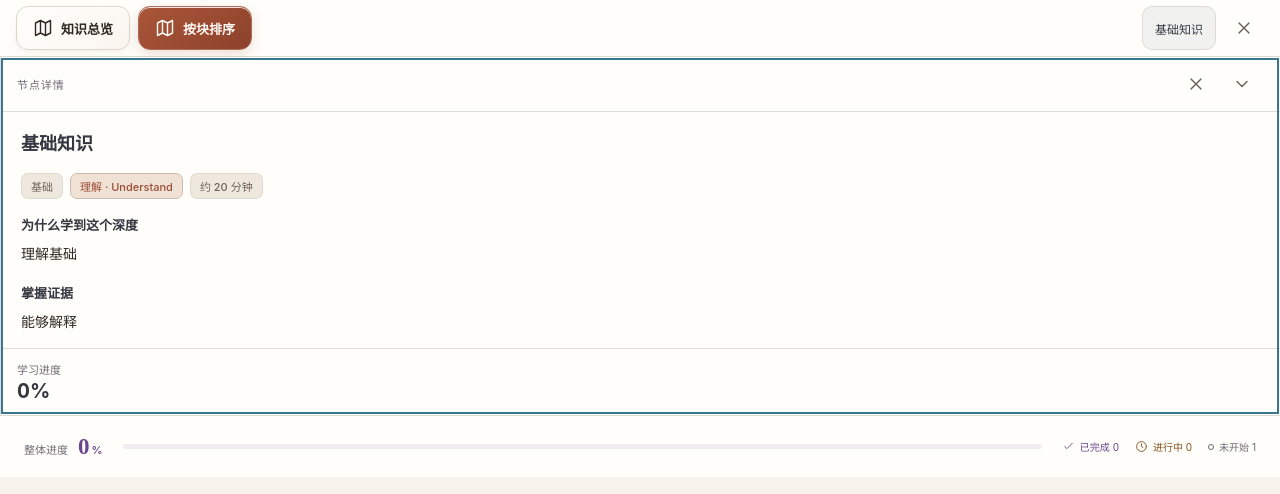
keeps selected relationships visible while details are collapsed, until the user clears the selection
This screenshot has width=1280, height=494.
Click the button named "收起节点详情".
click(1242, 84)  # box [1220,62,1264,106]
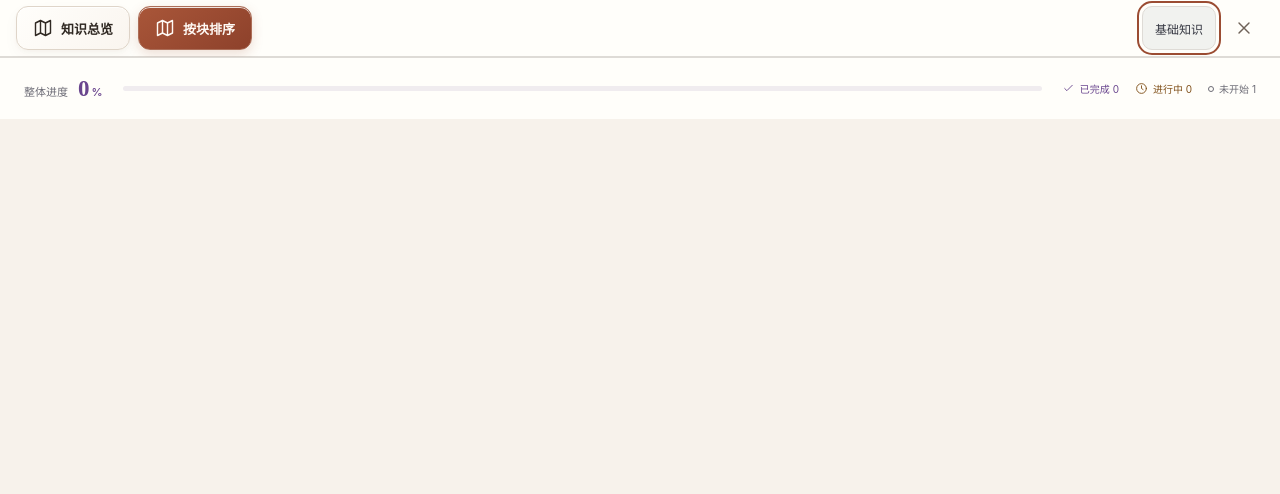
Result: the text "节点详情" is gone
Click the button with aria-label "查看节点详情：基础知识".
click(1179, 28)  # box [1142,6,1216,50]
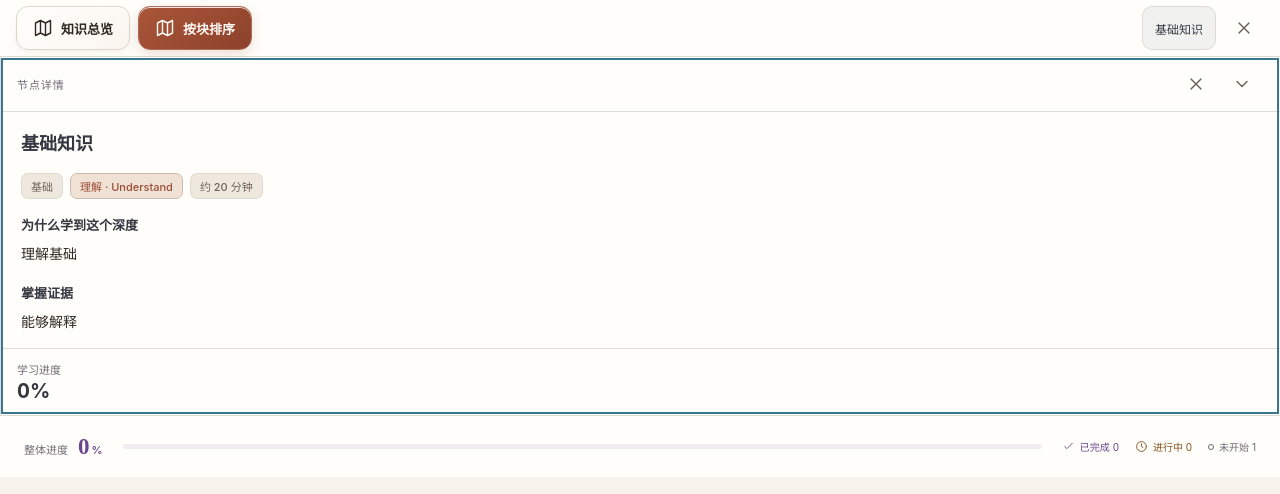
Result: the element "节点详情" is shown
Click the button named "取消选择".
click(1244, 28)  # box [1224,8,1264,48]
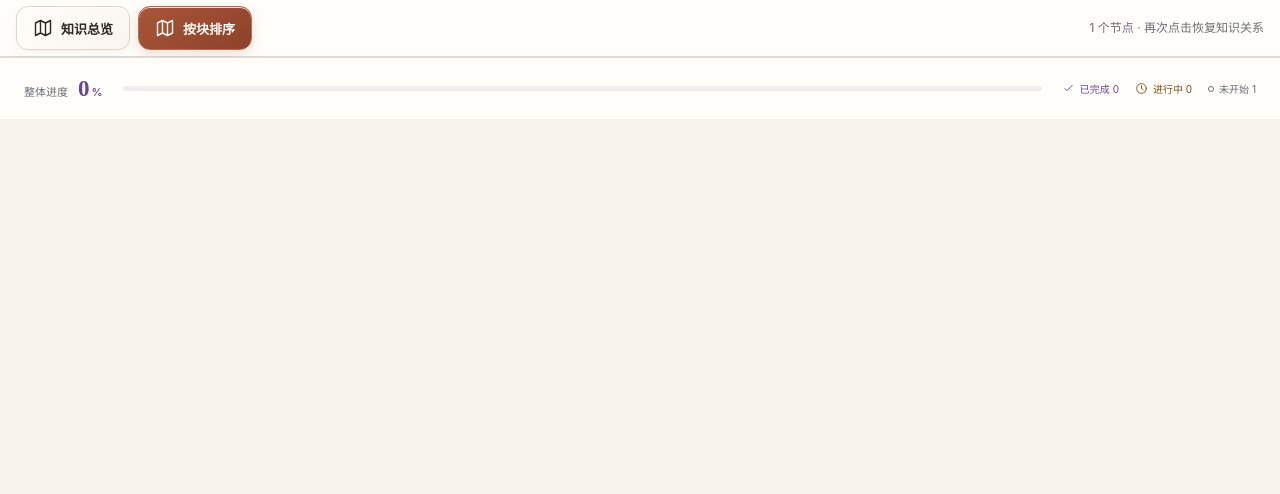
Expected: the text "→ 选中节点 →" is not shown
Result: the text "节点详情" is gone
